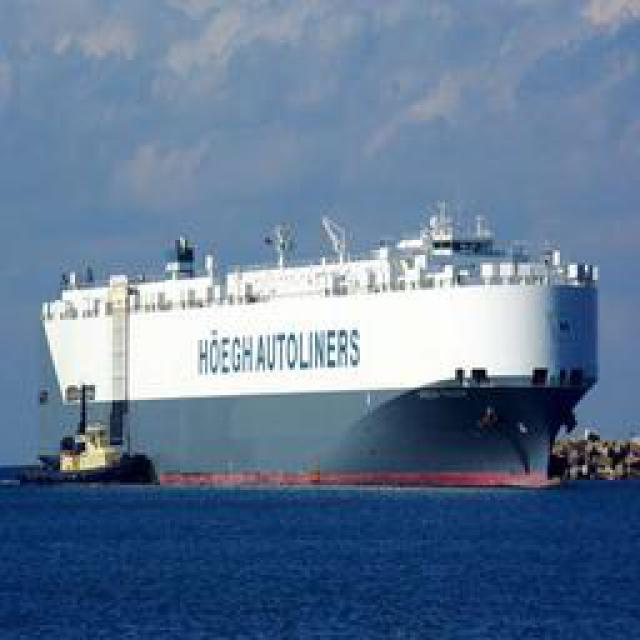Ship: (30, 206, 605, 486)
